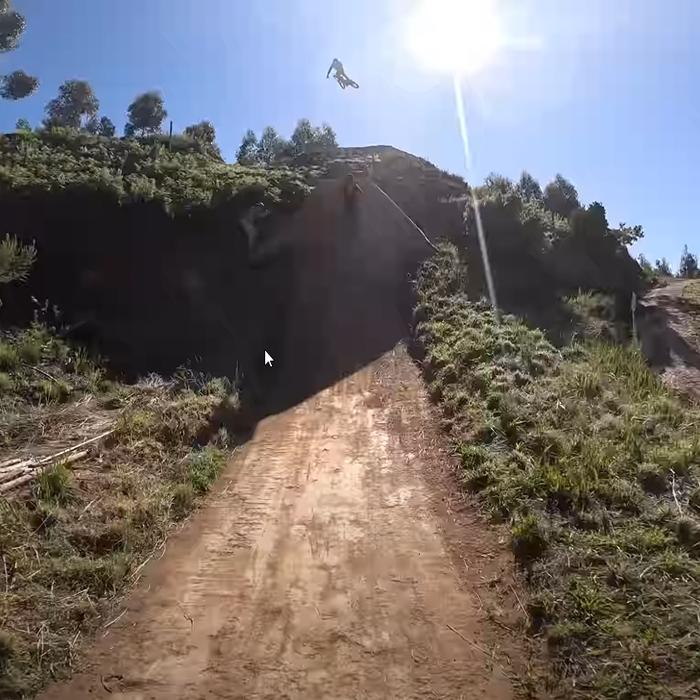turn: (281, 159, 409, 272)
